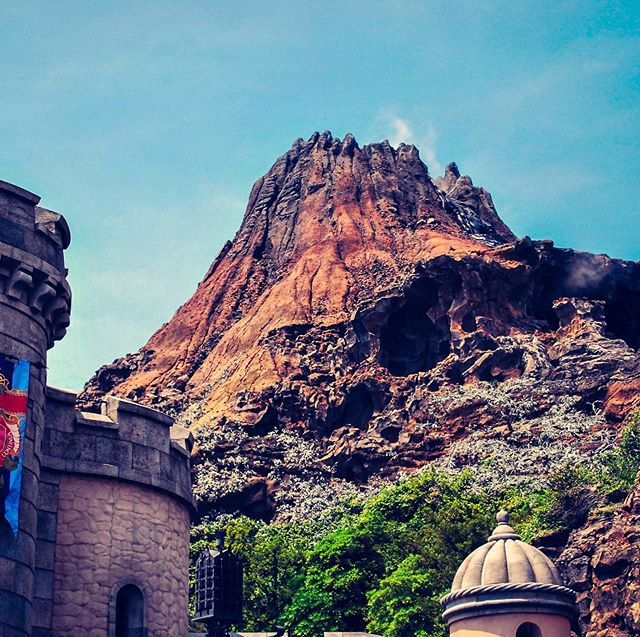building: (1, 205, 220, 637)
mountain: (152, 93, 622, 517)
sky: (53, 1, 640, 266)
vegetation: (215, 460, 591, 635)
